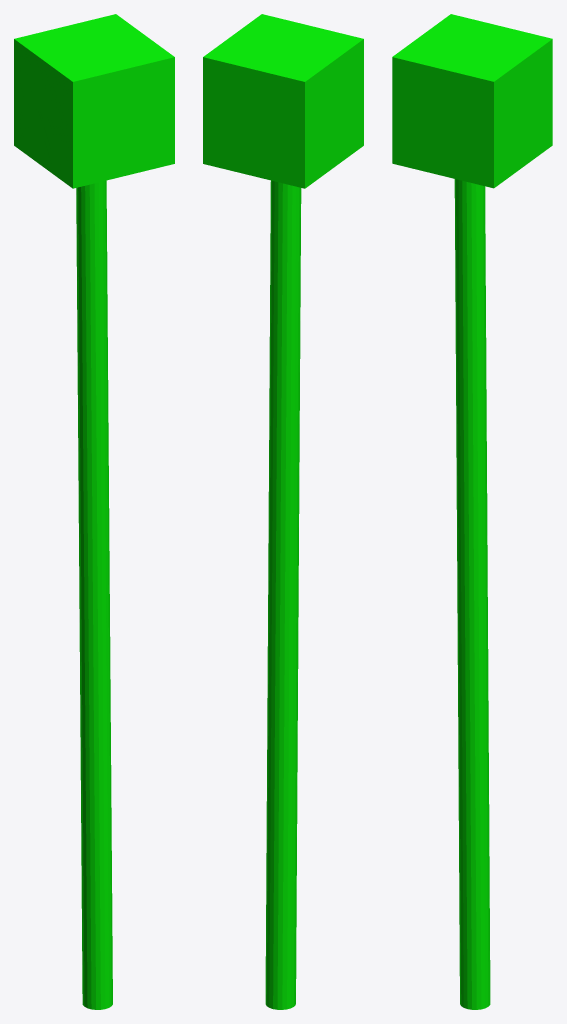
The model's file is yScale.obj.
3 renders of one model, left to right at view 1: azimuth 30°, elevation 25°; view 2: azimuth 150°, elevation 25°; view 3: azimuth 330°, elevation 25°, orthographic.
Bounding box in the file's own units: 8.97 × 80.36 × 8.97.
